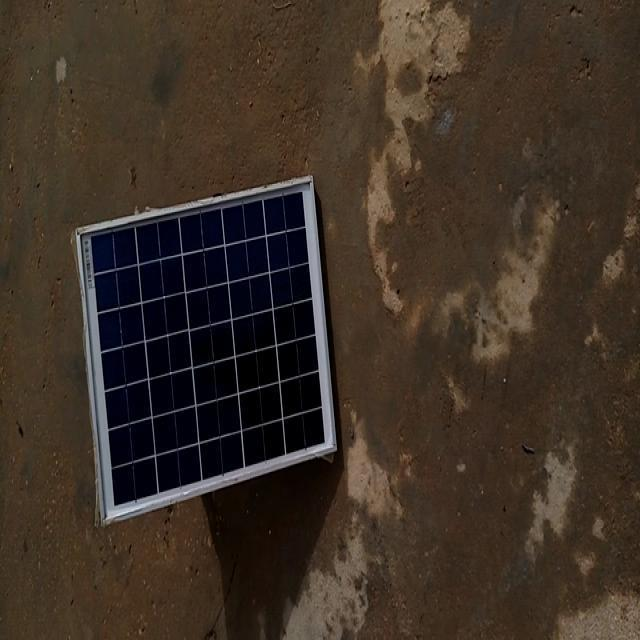Normal Solar Panel: (75, 176, 336, 525)
